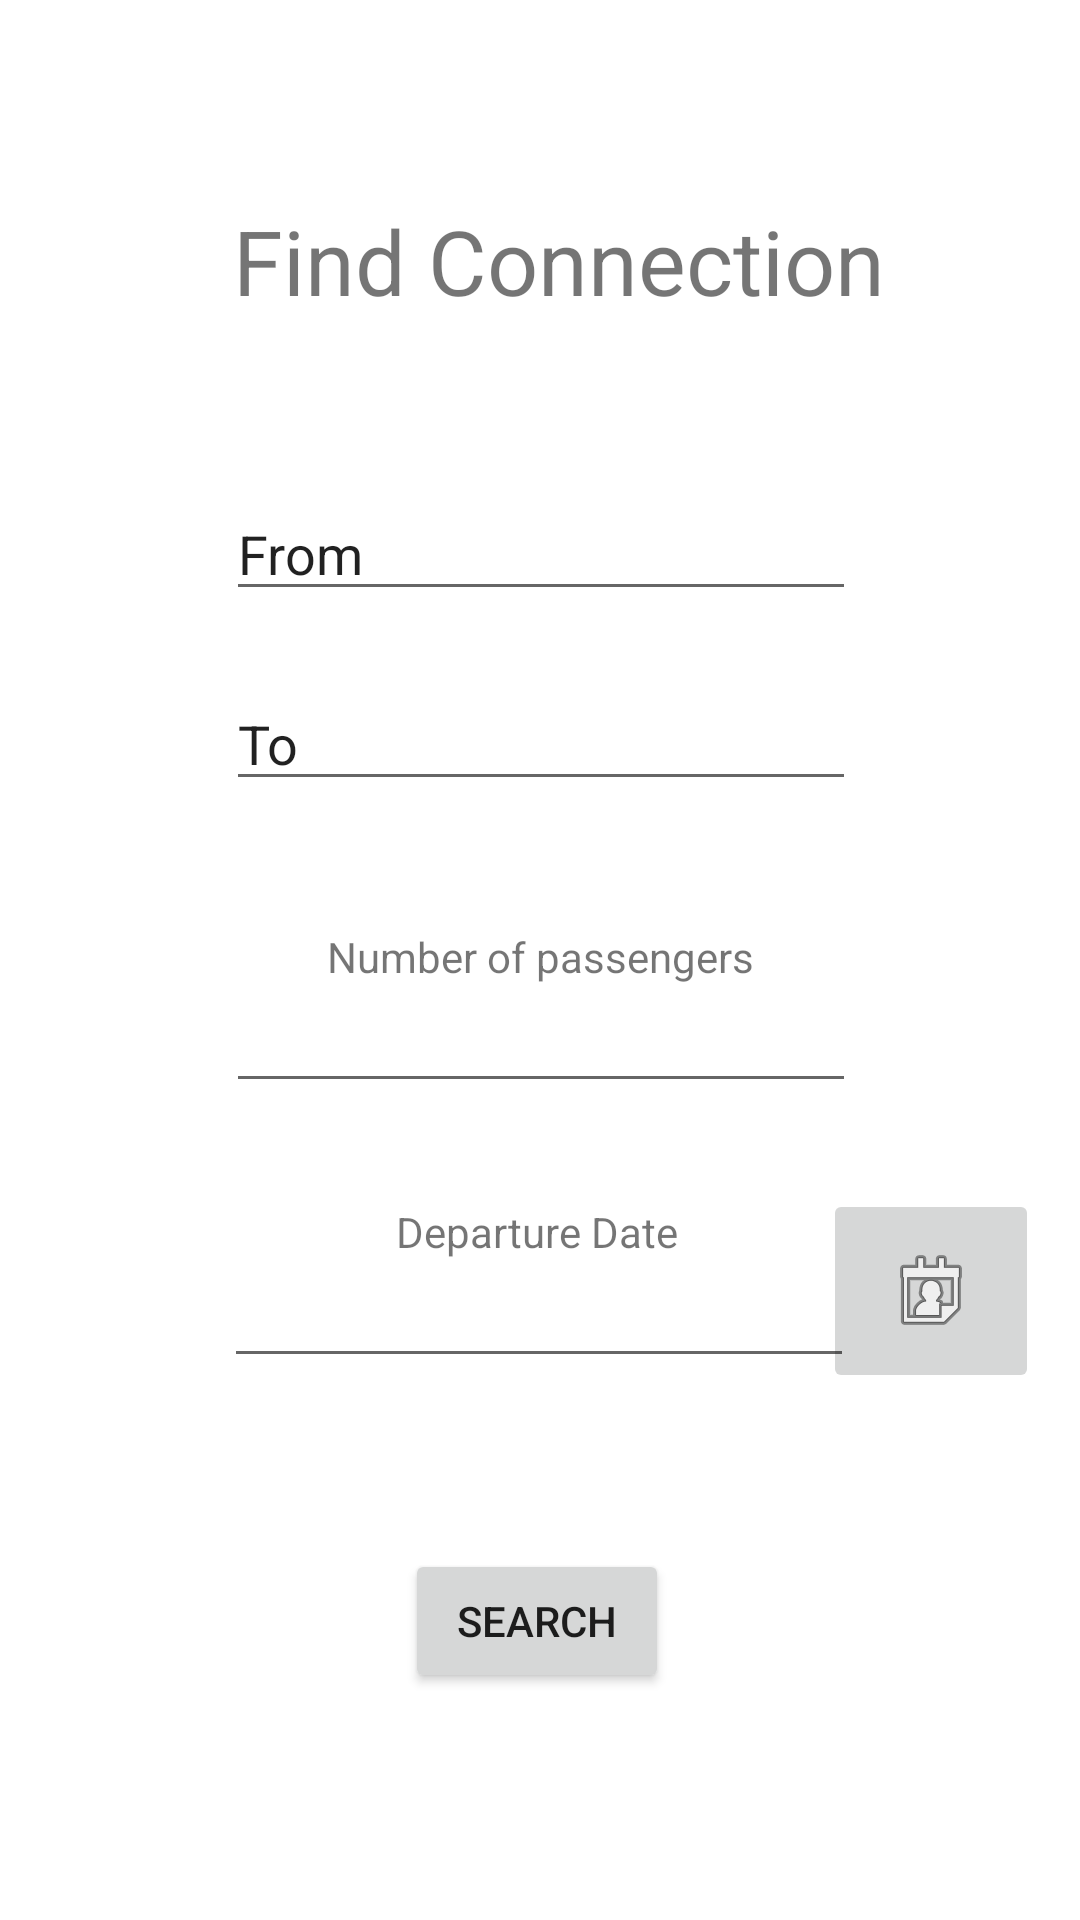

Named icons in this screenshot (1080*1920) and their bounding boxes, (x1, y1, x2, y2):
calendar: (823, 1207, 1027, 1375)
